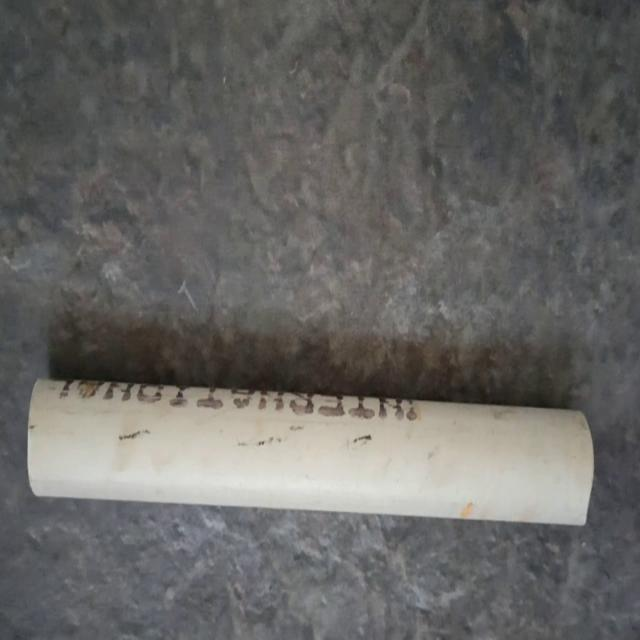Cube: (27, 374, 595, 528)
